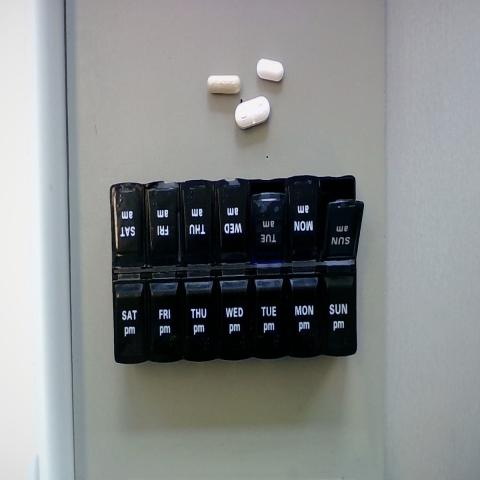FRI-am: (148, 182, 180, 268)
FRI-pm: (144, 273, 182, 361)
MON-am: (286, 181, 321, 262)
MON-pm: (287, 271, 320, 355)
Open: (321, 176, 365, 222), (252, 181, 286, 196)
Pill: (225, 95, 280, 133), (196, 64, 243, 101), (246, 44, 286, 87)
PillBox: (96, 161, 372, 390)
SAT-am: (114, 184, 146, 266)
SAT-pm: (115, 274, 144, 364)
SUN-pm: (321, 274, 355, 356)
THU-am: (180, 180, 214, 262)
THU-pm: (177, 269, 217, 359)
TUE-pm: (250, 272, 286, 359)
WED-am: (215, 177, 249, 264)
WED-pm: (216, 274, 250, 356)
